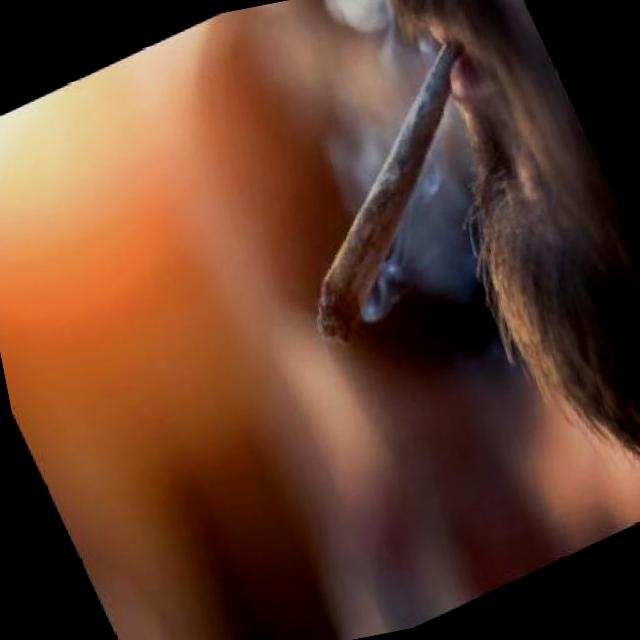smoke: (212, 21, 565, 370)
